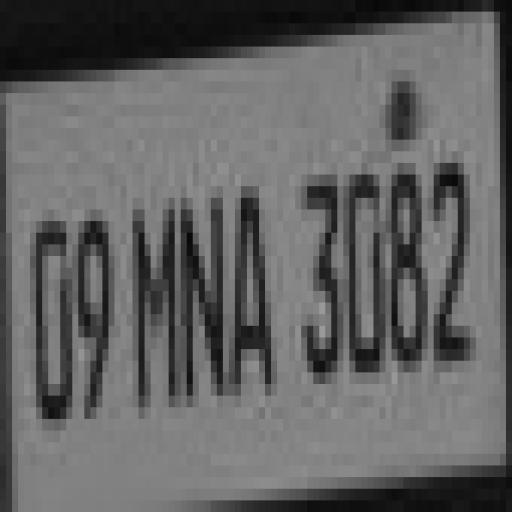0: (26, 225, 76, 424), (344, 158, 388, 382)
2: (432, 152, 477, 370)
3: (296, 166, 345, 383)
8: (388, 144, 426, 382)
9: (72, 212, 114, 419)
A: (222, 172, 284, 392)
M: (130, 196, 176, 416)
N: (178, 192, 224, 404)
